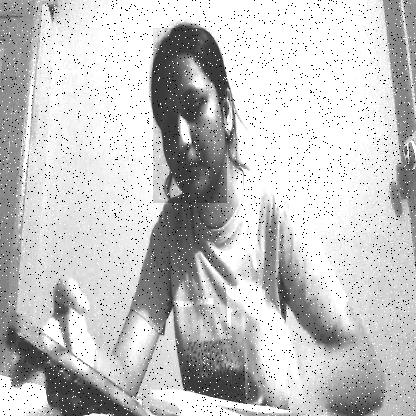Distracted: (153, 28, 227, 203)
